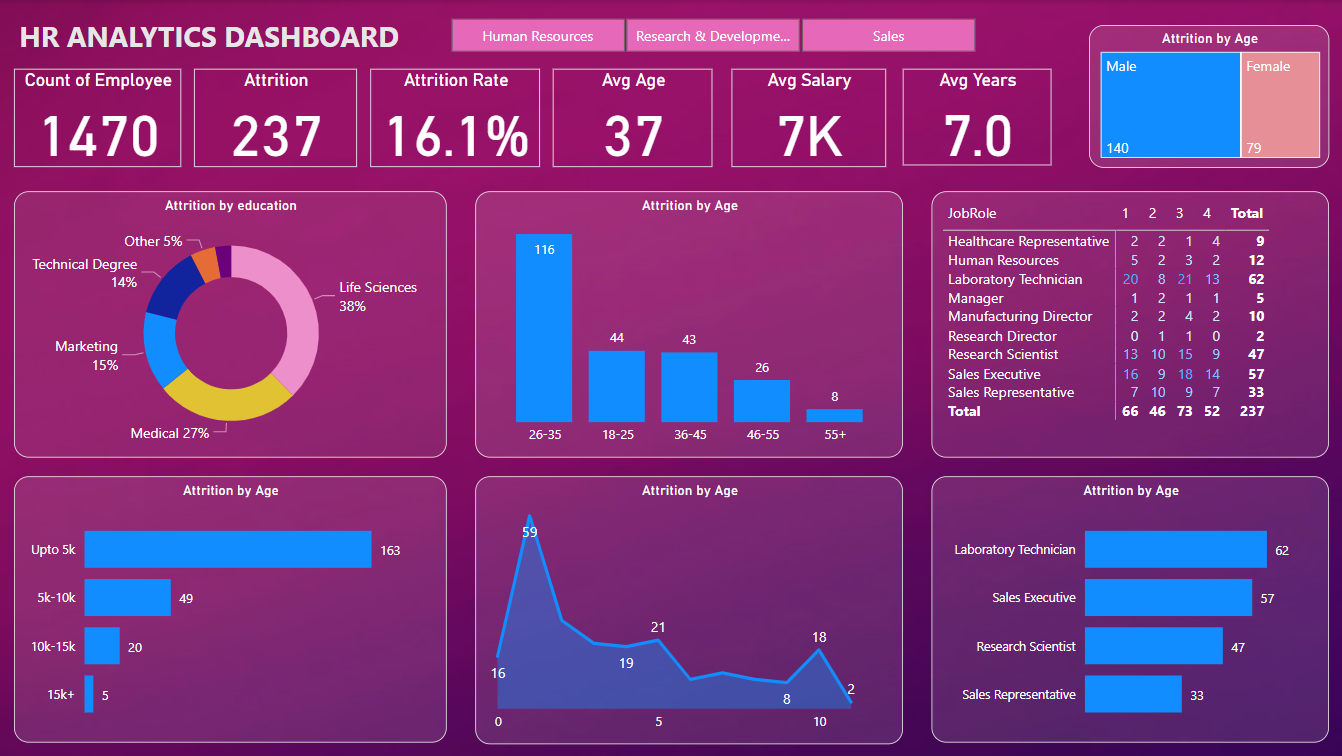

This screenshot's page, from the dashboard's own definition file:
{"tool":"powerbi","page":{"name":"Page 1","canvas":[1280,720],"ordinal":0},"visuals":[{"type":"card","title":"Count of Employee","fields":{"Values":["CountNonNull(HR_Analytics.EmpID)"]},"box":[13.7,65.9,159.2,93.3],"z":0},{"type":"card","title":"Attrition","fields":{"Values":["Sum(HR_Analytics.AttritionsCount)"]},"box":[185.2,65.9,155.1,93.3],"z":1},{"type":"card","title":"Attrition Rate","fields":{"Values":["HR_Analytics.AttritionRate"]},"box":[354,65.9,161.9,93.3],"z":2},{"type":"card","title":"Avg Age","fields":{"Values":["Avg(HR_Analytics.Age)"]},"box":[526.9,65.9,152.3,93.3],"z":3},{"type":"card","title":"Avg Salary","fields":{"Values":["Avg(HR_Analytics.MonthlyIncome)"]},"box":[697.1,65.9,146.8,93.3],"z":4},{"type":"card","title":"Avg Years","fields":{"Values":["Avg(HR_Analytics.YearsAtCompany)"]},"box":[860.4,65.9,141.3,91.9],"z":5},{"type":"donutChart","title":"Attrition by education","fields":{"Category":["HR_Analytics.EducationField"],"Y":["Sum(HR_Analytics.AttritionsCount)"]},"box":[13.7,182.5,411.7,253.9],"z":6},{"type":"columnChart","title":"Attrition by Age","fields":{"Category":["HR_Analytics.AgeGroup"],"Y":["Sum(HR_Analytics.AttritionsCount)"]},"box":[452.8,182.5,407.5,253.9],"z":7},{"type":"pivotTable","fields":{"Rows":["HR_Analytics.JobRole"],"Columns":["HR_Analytics.JobSatisfaction"],"Values":["Sum(HR_Analytics.AttritionsCount)"]},"box":[887.8,182.5,378.7,253.9],"z":8},{"type":"barChart","title":"Attrition by Age","fields":{"Category":["HR_Analytics.SalarySlab"],"Y":["Sum(HR_Analytics.AttritionsCount)"]},"box":[13.7,452.8,411.7,253.9],"z":9},{"type":"barChart","title":"Attrition by Age","fields":{"Y":["Sum(HR_Analytics.AttritionsCount)"],"Category":["HR_Analytics.JobRole"]},"box":[887.8,452.8,378.7,253.9],"z":10},{"type":"areaChart","title":"Attrition by Age","fields":{"Category":["HR_Analytics.YearsAtCompany"],"Y":["Sum(HR_Analytics.AttritionsCount)"]},"box":[452.8,452.8,407.5,255.2],"z":11},{"type":"treemap","title":"Attrition by Age","fields":{"Group":["HR_Analytics.Gender"],"Values":["Sum(HR_Analytics.AttritionsCount)"]},"box":[1037.4,23.3,229.2,135.8],"z":12},{"type":"textbox","box":[14,11,391,45],"z":13},{"type":"slicer","fields":{"Values":["HR_Analytics.Department"]},"box":[404.8,11,548.9,45.3],"z":14}]}

Visuals, with their boxes in screenshot pixels (x1, y1, x2, y2), scaled from the page's 1280x720 canvas onto the 1342x756 screenshot:
"Count of Employee" card: crop(14, 69, 181, 167)
"Attrition" card: crop(194, 69, 357, 167)
"Attrition Rate" card: crop(371, 69, 541, 167)
"Avg Age" card: crop(552, 69, 712, 167)
"Avg Salary" card: crop(731, 69, 885, 167)
"Avg Years" card: crop(902, 69, 1050, 166)
"Attrition by education" donutChart: crop(14, 192, 446, 458)
"Attrition by Age" columnChart: crop(475, 192, 902, 458)
pivotTable - HR_Analytics.JobRole x HR_Analytics.JobSatisfaction: crop(931, 192, 1328, 458)
"Attrition by Age" barChart: crop(14, 475, 446, 742)
"Attrition by Age" barChart: crop(931, 475, 1328, 742)
"Attrition by Age" areaChart: crop(475, 475, 902, 743)
"Attrition by Age" treemap: crop(1088, 24, 1328, 167)
textbox: crop(15, 12, 425, 59)
slicer - HR_Analytics.Department: crop(424, 12, 1000, 59)
